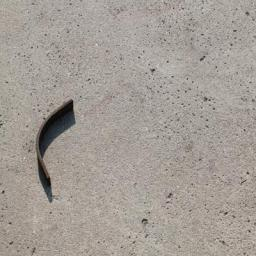FOD: (28, 98, 81, 192)
